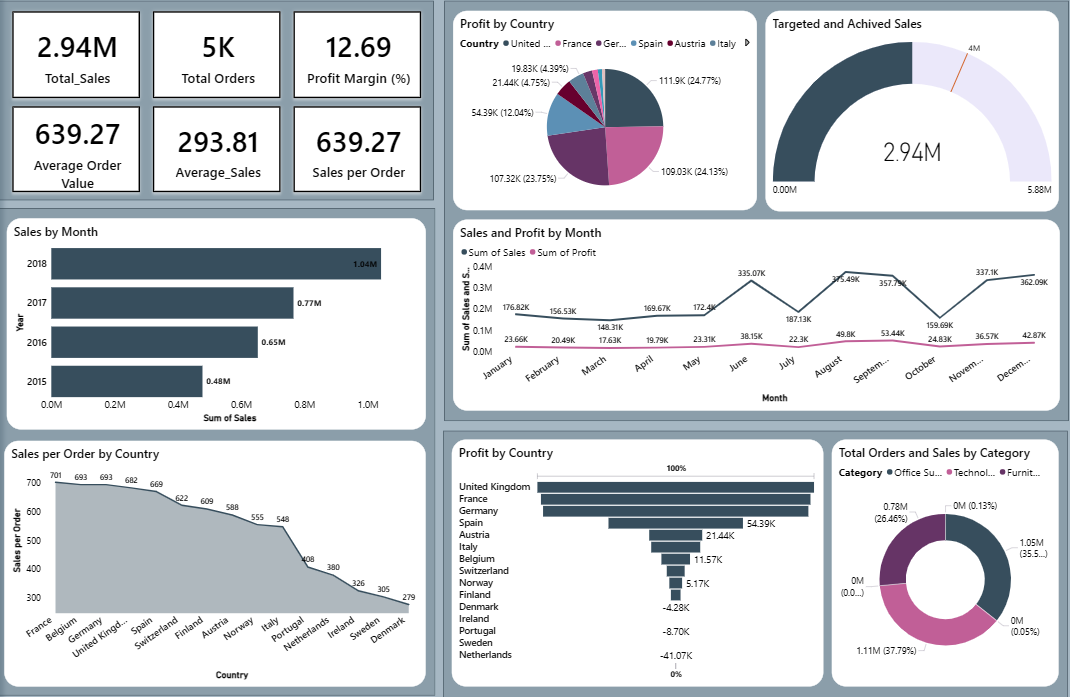

The page's visual inventory and layout, read from the dashboard file:
{"tool":"powerbi","page":{"name":"Data Analysis","canvas":[2600,1500],"ordinal":0},"visuals":[{"type":"shape","box":[2.6,10.3,325.6,1471.8],"z":0},{"type":"shape","box":[1265,17.5,1315,885],"z":0,"group":"g2"},{"type":"image","box":[35.6,47.5,253.8,135.9],"z":0,"group":"g1"},{"type":"shape","box":[328.2,456.4,917.9,1025.6],"z":0,"group":"g4"},{"type":"shape","box":[1264.1,923.1,1315.4,564.1],"z":0,"group":"g3"},{"type":"shape","box":[22.5,52.5,282.5,187.5],"z":1000},{"type":"image","box":[10,155.2,307.7,79.5],"z":1000,"group":"g1"},{"type":"lineChart","title":"Sales and Profit by Month","fields":{"Category":["Table1.Order Date.Variation.Date Hierarchy.Month"],"Y":["Sum(Table1.Sales)","Sum(Table1.Profit)"]},"box":[1282.5,477.5,1277.5,402.5],"z":1000,"group":"g2"},{"type":"donutChart","title":"Total Orders and Sales by Category","fields":{"Y":["Table1.Total Orders","Sum(Table1.Sales)"],"Category":["Table1.Category"]},"box":[2082.5,942.5,477.5,520],"z":1000,"group":"g3"},{"type":"areaChart","fields":{"Category":["Table1.Country"],"Y":["Table1.Sales per Order"]},"box":[340,945,887.5,517.5],"z":1000,"group":"g4"},{"type":"shape","box":[327.5,17.5,917.5,420],"z":2000},{"type":"pieChart","title":"Profit by Country","fields":{"Category":["Table1.Country"],"Y":["Sum(Table1.Profit)"]},"box":[1282.5,37.5,640,420],"z":2000,"group":"g2"},{"type":"clusteredBarChart","title":"Sales by Month","fields":{"Y":["Sum(Table1.Sales)"],"Category":["Table1.Order Date.Variation.Date Hierarchy.Year"]},"box":[345,477.5,882.5,445],"z":2000,"group":"g4"},{"type":"funnel","title":"Profit by Country","fields":{"Y":["Sum(Table1.Profit)"],"Category":["Table1.Country"]},"box":[1282.5,942.5,782.5,520],"z":2000,"group":"g3"},{"type":"cardVisual","fields":{"Data":["Table1.Total_Sales","Table1.Total Orders","Table1.Profit Margin (%)"]},"box":[340,22.5,895,217.5],"z":3000},{"type":"gauge","title":"Targeted and Achived Sales","fields":{"TargetValue":["Table1.Target Sales"],"Y":["Sum(Table1.Sales)"]},"box":[1942.5,37.5,617.5,422.5],"z":3000,"group":"g2"},{"type":"cardVisual","fields":{"Data":["Table1.Average Order Value","Table1.Average_Sales","Table1.Sales per Order"]},"box":[340,222.5,895,215],"z":4000},{"type":"group","id":"g1","title":"Group 1","box":[10,47.5,307.5,187.5],"z":5000},{"type":"slicer","fields":{"Values":["Table1.Ship Date.Variation.Date Hierarchy.Year"]},"box":[38.5,300,248.7,115.4],"z":6000},{"type":"slicer","fields":{"Values":["Table1.Ship Date.Variation.Date Hierarchy.Month"]},"box":[38.5,476.9,253.8,128.2],"z":7000},{"type":"slicer","fields":{"Values":["Table1.Region"]},"box":[35.9,841,253.8,128.2],"z":8000},{"type":"slicer","fields":{"Values":["Table1.Country"]},"box":[38.5,1020.5,253.8,130.8],"z":9000},{"type":"slicer","fields":{"Values":["Table1.State"]},"box":[38.5,1205.1,253.8,130.8],"z":10000},{"type":"slicer","fields":{"Values":["Table1.Ship Date"]},"box":[38.5,661.5,253.8,128.2],"z":11000},{"type":"group","id":"g2","title":"Group 2","box":[1265,17.5,1315,885],"z":12000},{"type":"group","id":"g3","title":"Group 3","box":[1264.1,923.1,1315.4,564.1],"z":13000},{"type":"group","id":"g4","title":"Group 4","box":[328.2,456.4,917.9,1025.6],"z":14000},{"type":"actionButton","title":"Orders","box":[179.5,1356.4,125.6,107.7],"z":15000}]}

Visuals, with their boxes on the page's 2600x1500 design canvas (x1, y1, x2, y2). These are canvas units, not pixel positions in the 1070x697 screenshot, which may show the page scaled, cropped or inside an application window:
shape: detection(3, 10, 328, 1482)
shape: detection(1265, 18, 2580, 902)
image: detection(36, 48, 289, 183)
shape: detection(328, 456, 1246, 1482)
shape: detection(1264, 923, 2580, 1487)
shape: detection(22, 52, 305, 240)
image: detection(10, 155, 318, 235)
"Sales and Profit by Month" lineChart: detection(1282, 478, 2560, 880)
"Total Orders and Sales by Category" donutChart: detection(2082, 942, 2560, 1462)
areaChart - Table1.Country x Table1.Sales per Order: detection(340, 945, 1228, 1462)
shape: detection(328, 18, 1245, 438)
"Profit by Country" pieChart: detection(1282, 38, 1922, 458)
"Sales by Month" clusteredBarChart: detection(345, 478, 1228, 922)
"Profit by Country" funnel: detection(1282, 942, 2065, 1462)
cardVisual - Table1.Total_Sales x Table1.Total Orders: detection(340, 22, 1235, 240)
"Targeted and Achived Sales" gauge: detection(1942, 38, 2560, 460)
cardVisual - Table1.Average Order Value x Table1.Average_Sales: detection(340, 222, 1235, 438)
"Group 1" group: detection(10, 48, 318, 235)
slicer - Table1.Ship Date.Variation.Date Hierarchy.Year: detection(38, 300, 287, 415)
slicer - Table1.Ship Date.Variation.Date Hierarchy.Month: detection(38, 477, 292, 605)
slicer - Table1.Region: detection(36, 841, 290, 969)
slicer - Table1.Country: detection(38, 1020, 292, 1151)
slicer - Table1.State: detection(38, 1205, 292, 1336)
slicer - Table1.Ship Date: detection(38, 662, 292, 790)
"Group 2" group: detection(1265, 18, 2580, 902)
"Group 3" group: detection(1264, 923, 2580, 1487)
"Group 4" group: detection(328, 456, 1246, 1482)
"Orders" actionButton: detection(180, 1356, 305, 1464)
